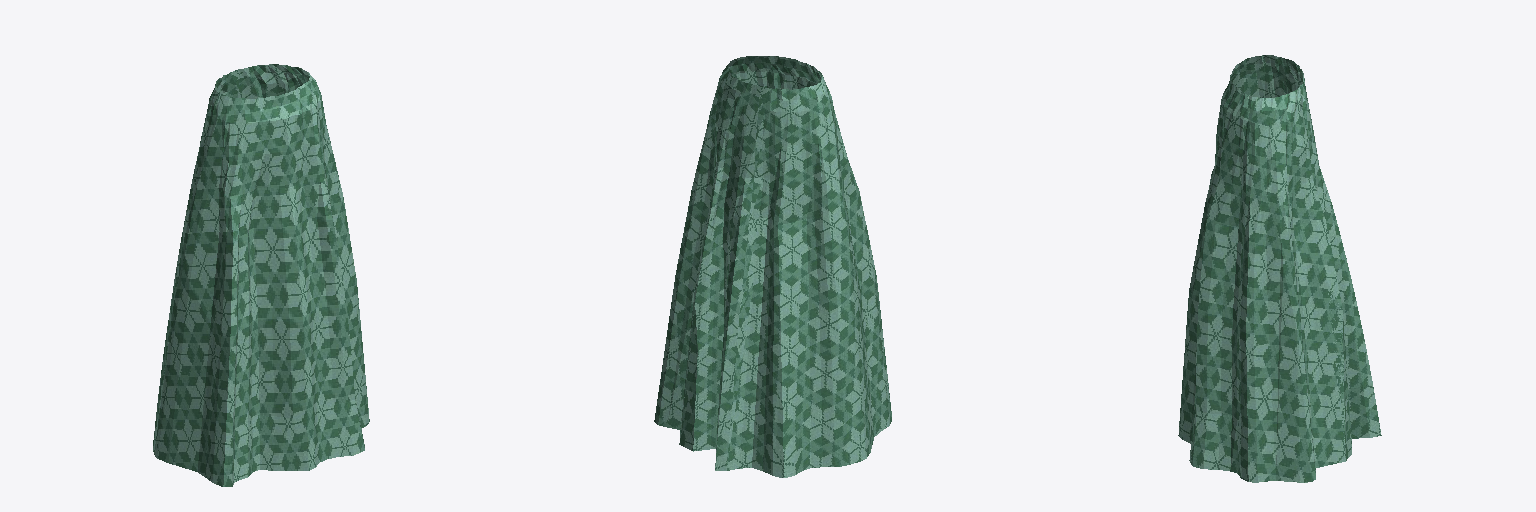
The picture shows the model from 3 angles: view 1: azimuth 30°, elevation 25°; view 2: azimuth 150°, elevation 25°; view 3: azimuth 270°, elevation 25°; orthographic projection.
Visible parts, largest first — view 1: lowertunic.001; view 2: lowertunic.001; view 3: lowertunic.001.
Boxes of the visible parts, x1=… form: lowertunic.001: x1=153, y1=64, x2=369, y2=486; lowertunic.001: x1=654, y1=56, x2=891, y2=477; lowertunic.001: x1=1178, y1=55, x2=1381, y2=482.
Bounding box in the file's own units: 0.3681 × 0.6381 × 0.3278.
1 materials, 1 textured.